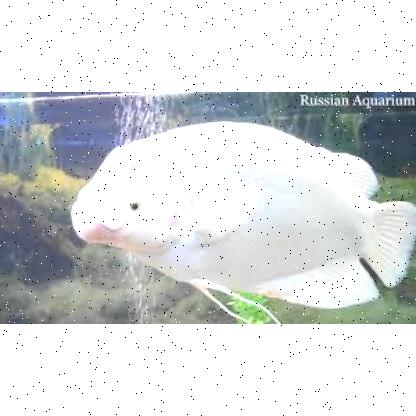gurame: (73, 120, 416, 308)
